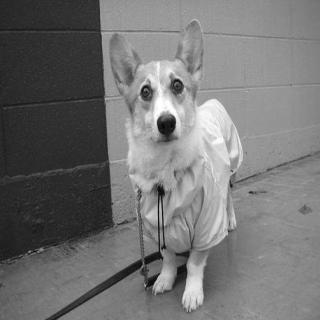dog: (107, 22, 215, 169)
nose: (156, 112, 177, 138)
